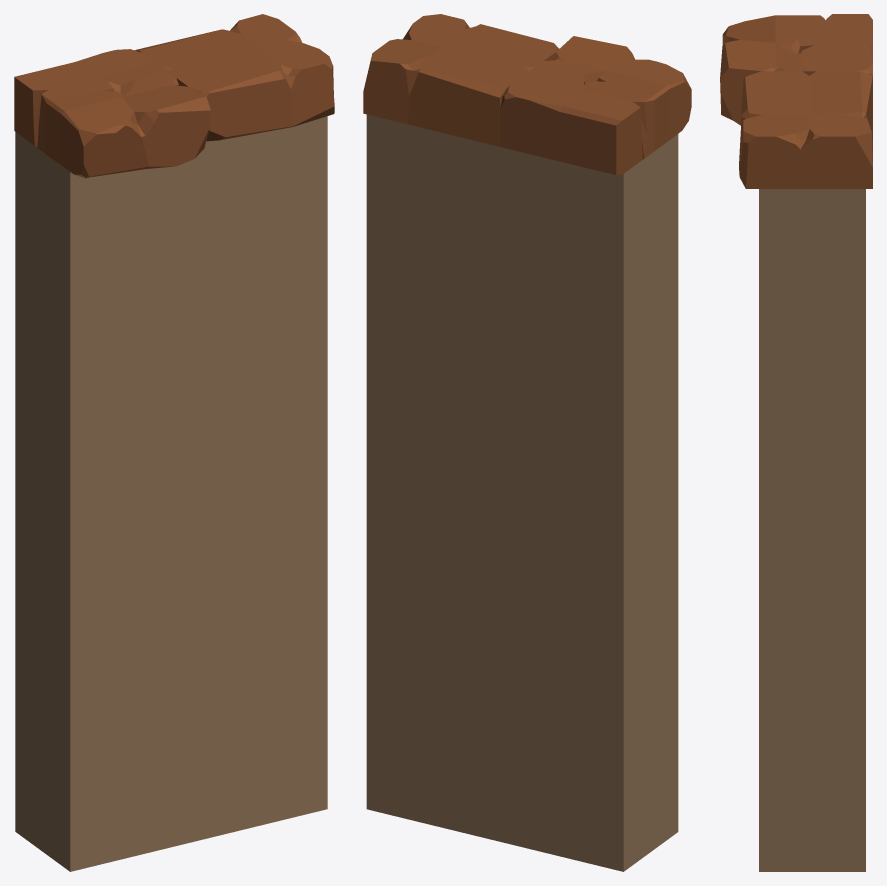
Rendered from duvar3.fbx.
The picture shows the model from 3 angles, left to right: view 1: azimuth 30°, elevation 25°; view 2: azimuth 150°, elevation 25°; view 3: azimuth 270°, elevation 25°; orthographic projection. The views are drawn at different scales.
Visible parts, largest first — view 1: duvar3; view 2: duvar3; view 3: duvar3.
Part boxes in pixels (x1=…): duvar3: x1=14, y1=14, x2=334, y2=871; duvar3: x1=363, y1=14, x2=691, y2=871; duvar3: x1=720, y1=14, x2=872, y2=871.
Size of the model in its own units: 1 by 2.81 by 0.5273.
Materials: 1 (1 with a texture image).
